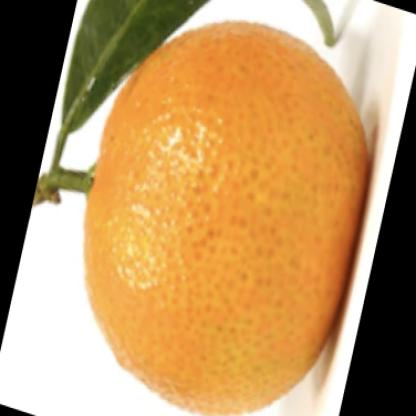fresh: (77, 18, 369, 416)
